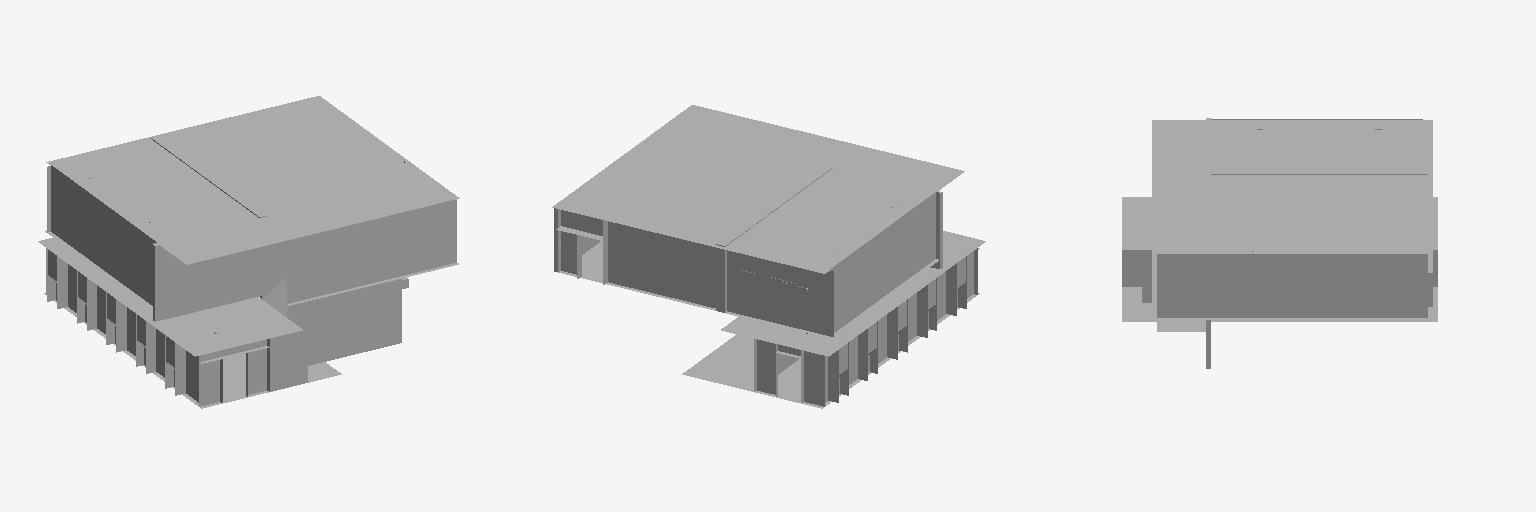
The model's file is LC_room2_sl.obj.
3 renders of one model, left to right at view 1: azimuth 30°, elevation 25°; view 2: azimuth 150°, elevation 25°; view 3: azimuth 270°, elevation 25°, orthographic.
Visible parts, largest first — view 1: LC_room2_sl; view 2: LC_room2_sl; view 3: LC_room2_sl.
Part boxes in pixels (x1,y1,x2,y2): LC_room2_sl: (38, 96, 459, 408); LC_room2_sl: (552, 105, 985, 408); LC_room2_sl: (1122, 118, 1437, 368).
Size of the model in its own units: 20.47 by 10 by 20.